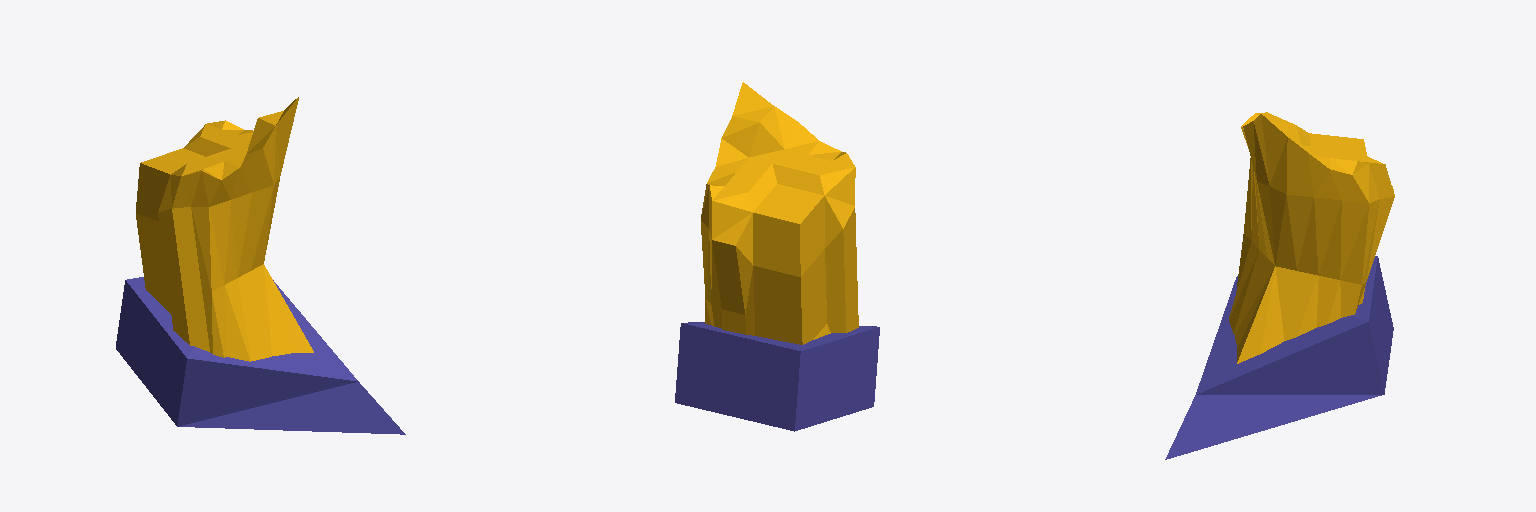
Rendered from footDL.obj.
The picture shows the model from 3 angles: view 1: azimuth 30°, elevation 25°; view 2: azimuth 150°, elevation 25°; view 3: azimuth 270°, elevation 25°; orthographic projection.
Visible parts, largest first — view 1: polySurface246; view 2: polySurface246; view 3: polySurface246.
Part boxes in pixels (left/top/right/bottom): polySurface246: left=116, top=97, right=405, bottom=434; polySurface246: left=675, top=82, right=879, bottom=431; polySurface246: left=1165, top=112, right=1394, bottom=459.
Bounding box in the file's own units: 3.98 × 6.54 × 4.29.